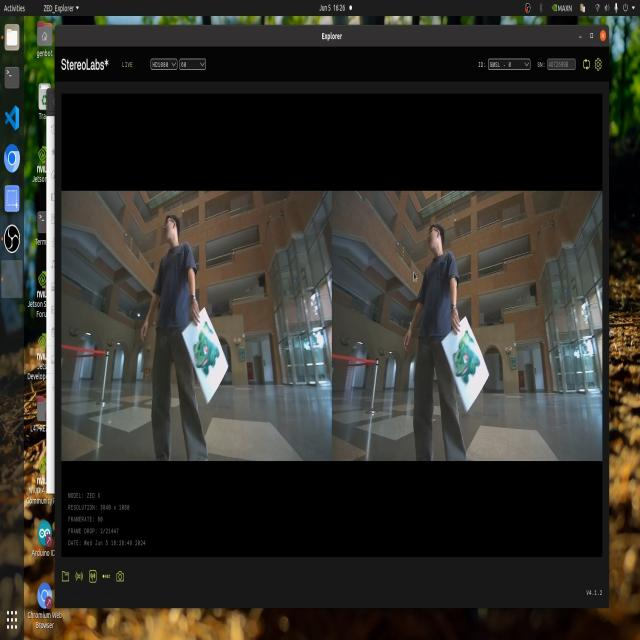green: (187, 314, 218, 379), (450, 328, 481, 388)
